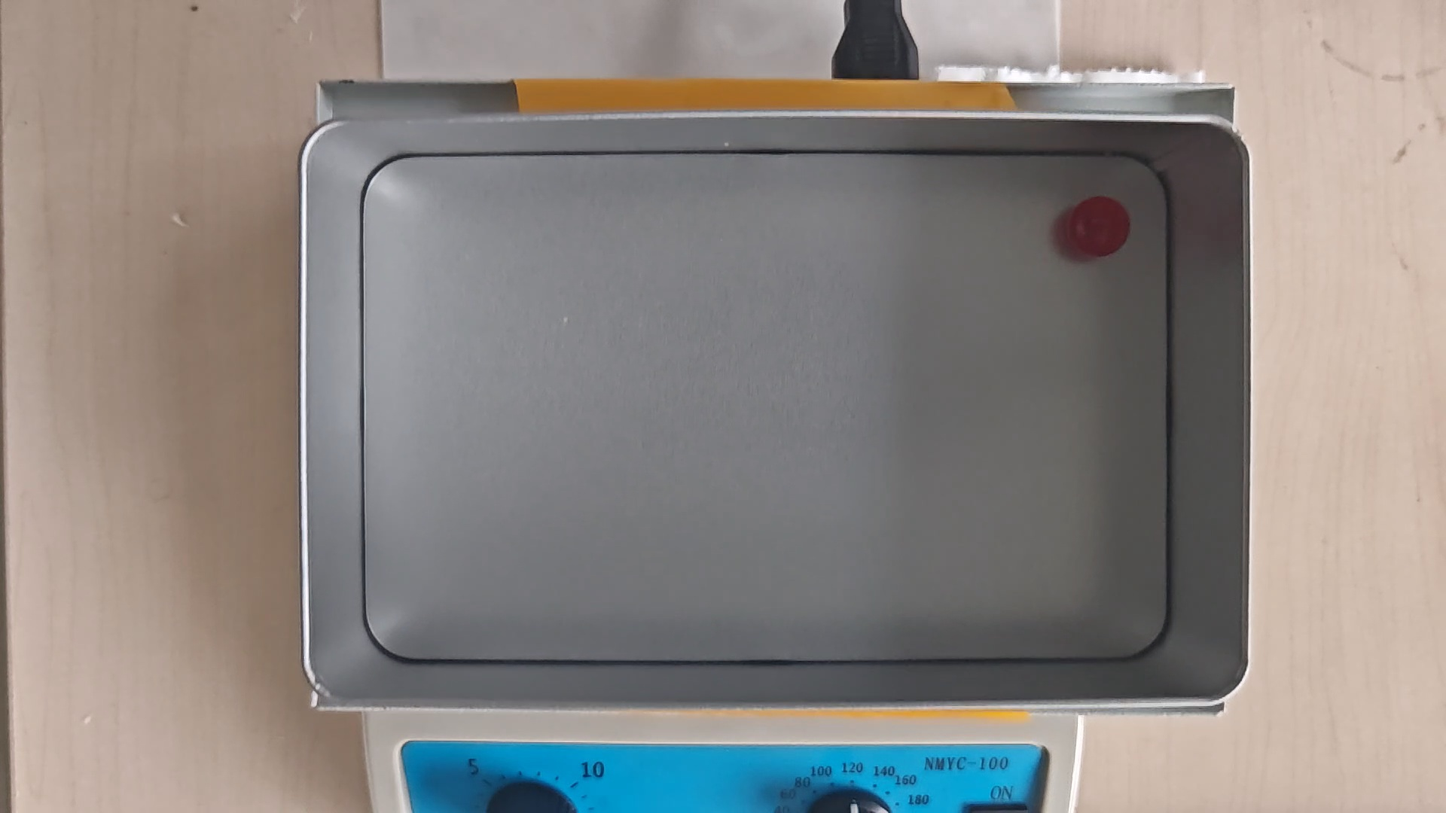ball: (1069, 195, 1130, 258)
container: (363, 155, 1170, 660)
